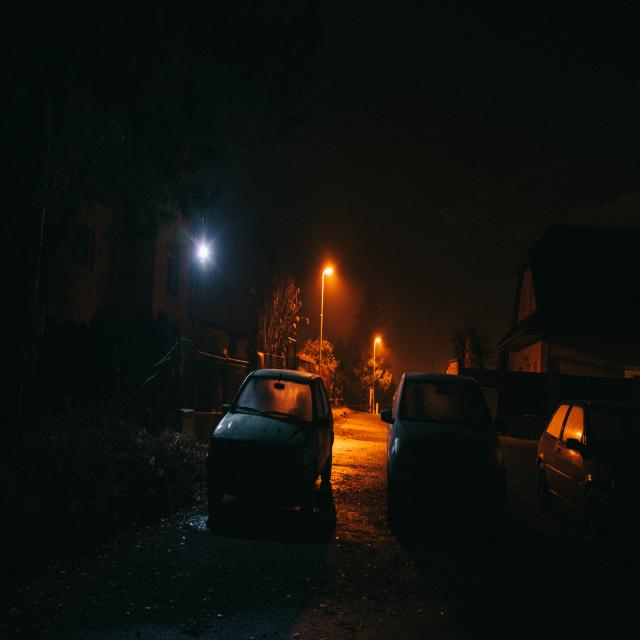Street Light: (316, 267, 334, 411), (371, 338, 382, 414)
